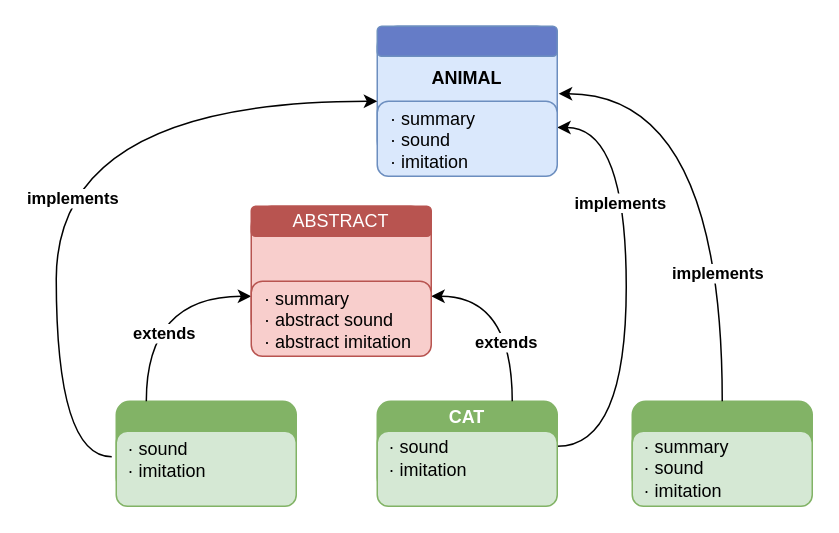
The diagram is 839 pixels wide and 533 high, and some of its shapes have lost their labels. Each missing label, with the box of its shape:
BIRD: (631, 400, 812, 491)
DOG: (115, 400, 296, 491)
INTERFACE: (376, 25, 557, 56)
MAMMAL: (250, 205, 431, 341)
